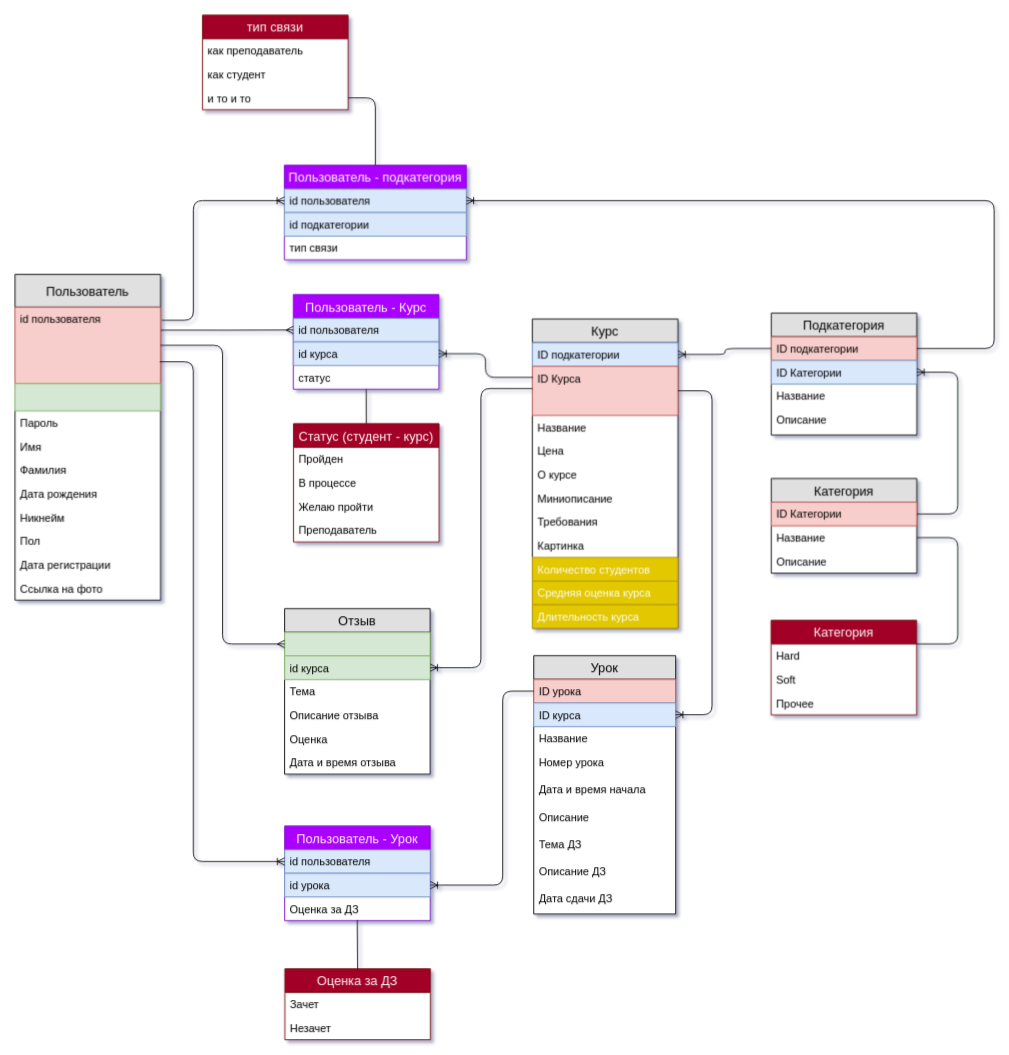
Image size: 1009x1055. Some labels were removed from this diagram. Each missing label, with the centre of its shape:
"Email" belongs at (87,397).
"id студента" belongs at (357,643).
